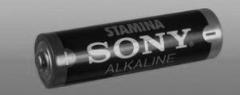electronic: (28, 0, 240, 95)
